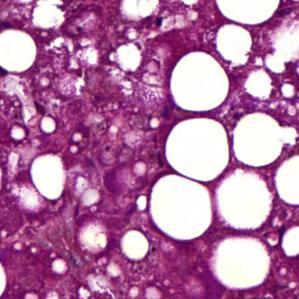steatosis: (147, 173, 213, 241), (163, 119, 232, 182), (171, 48, 230, 114), (213, 238, 276, 284), (235, 109, 284, 164)
